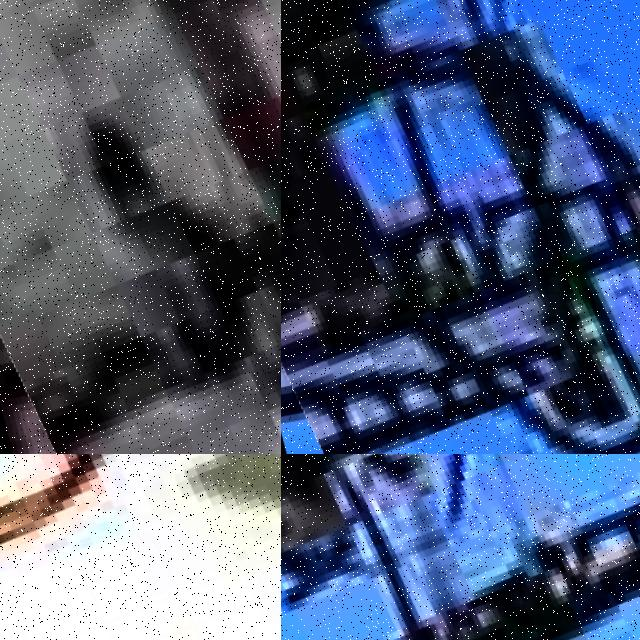0: (281, 0, 640, 454), (0, 0, 281, 454), (281, 454, 640, 640)
drone: (0, 454, 281, 640)
